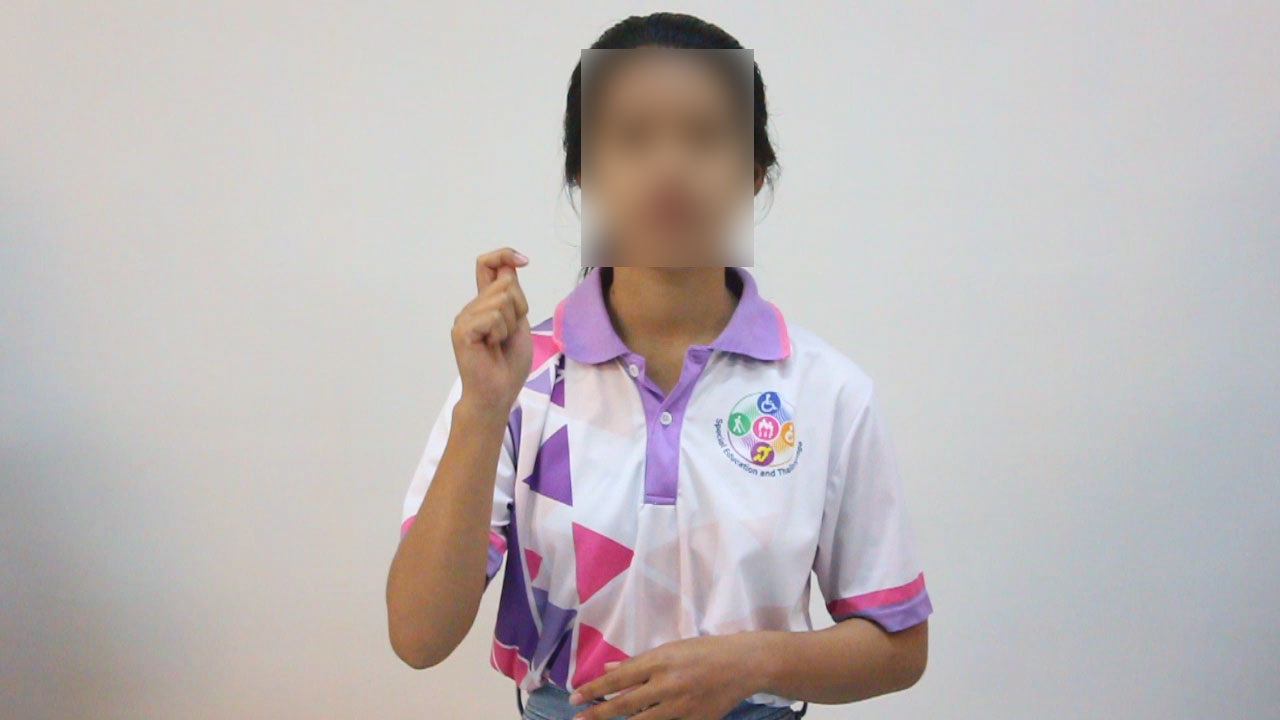or: (437, 245, 551, 412)
